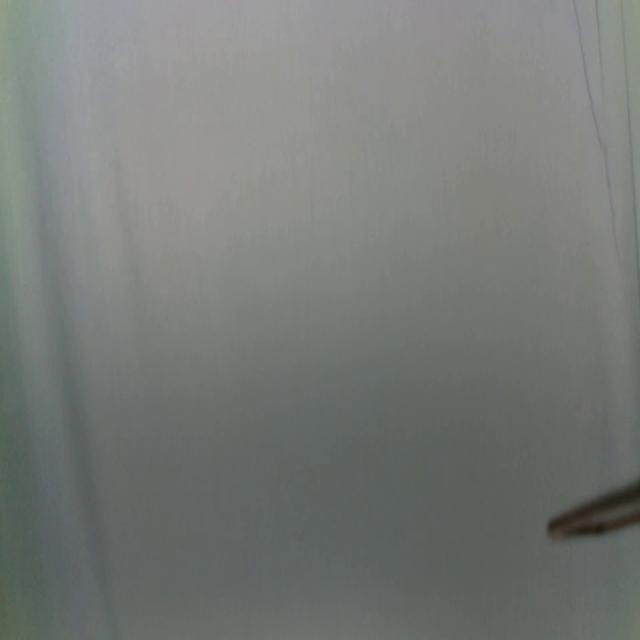crease: (571, 0, 620, 277), (619, 0, 640, 271)
